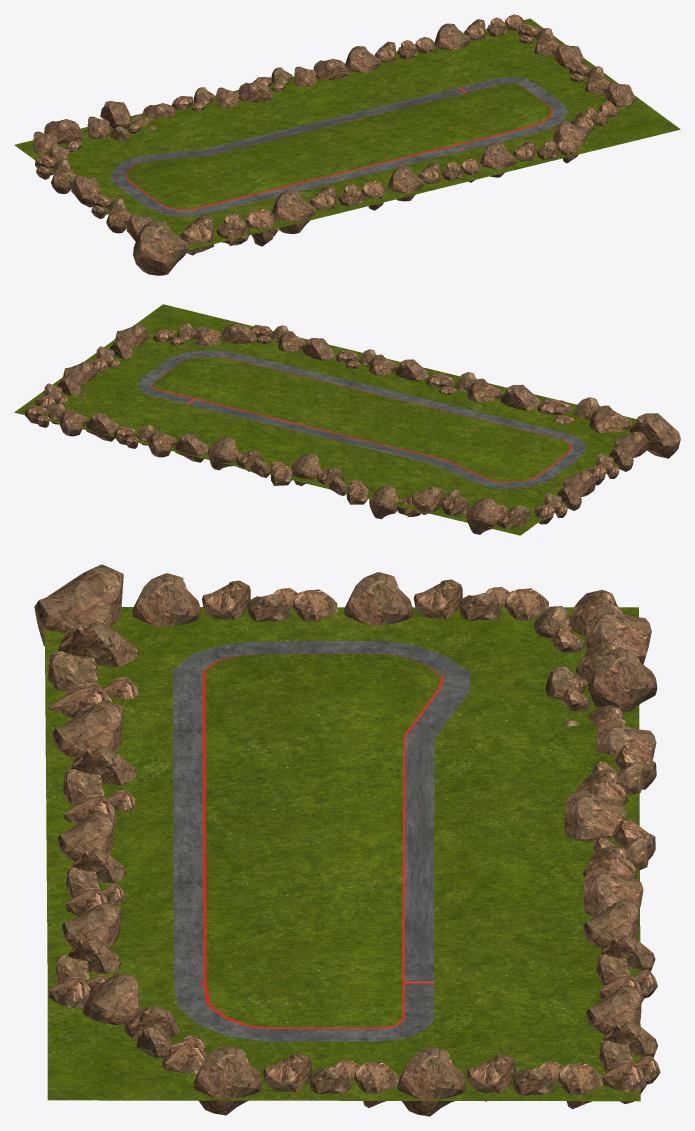
The model's file is mapa.glb.
The picture shows the model from 3 angles, top to bottom: view 1: azimuth 30°, elevation 25°; view 2: azimuth 150°, elevation 25°; view 3: azimuth 270°, elevation 25°; orthographic projection. The views are drawn at different scales.
Parts seen in each view (by area): view 1: Plane.001_16, polySurface1325_stone_0.010_5, polySurface1325_stone_0.009_4, polySurface1325_stone_0.013_13, polySurface1325_stone_0.008_3, polySurface1325_stone_0.014_14, polySurface1325_stone_0.004_9, polySurface1325_stone_0.001_6, polySurface1325_stone_0.002_7, polySurface1325_stone_0.015_2, polySurface1325_stone_0.006_1, polySurface1325_stone_0.007_0 (+5 smaller); view 2: Plane.001_16, polySurface1325_stone_0.010_5, polySurface1325_stone_0.009_4, polySurface1325_stone_0.001_6, polySurface1325_stone_0.002_7, polySurface1325_stone_0.015_2, polySurface1325_stone_0.004_9, polySurface1325_stone_0.014_14, polySurface1325_stone_0.012_12, polySurface1325_stone_0.016_15, polySurface1325_stone_0.006_1, polySurface1325_stone_0.008_3 (+5 smaller); view 3: Plane.001_16, polySurface1325_stone_0.010_5, polySurface1325_stone_0.005_10, polySurface1325_stone_0.011_11, polySurface1325_stone_0.009_4, polySurface1325_stone_0.016_15, polySurface1325_stone_0.014_14, polySurface1325_stone_0.012_12, polySurface1325_stone_0.007_0, polySurface1325_stone_0.002_7, polySurface1325_stone_0.004_9, polySurface1325_stone_0.013_13 (+5 smaller).
Part boxes in pixels (box(x1,y1,x2,y2)): Plane.001_16: box(14, 18, 680, 250); polySurface1325_stone_0.010_5: box(133, 209, 278, 275); polySurface1325_stone_0.009_4: box(272, 180, 386, 233); polySurface1325_stone_0.013_13: box(480, 139, 578, 177); polySurface1325_stone_0.008_3: box(388, 158, 481, 201); polySurface1325_stone_0.014_14: box(35, 154, 101, 207); polySurface1325_stone_0.004_9: box(171, 81, 273, 111); polySurface1325_stone_0.001_6: box(345, 37, 435, 72); polySurface1325_stone_0.002_7: box(435, 14, 524, 49); polySurface1325_stone_0.015_2: box(252, 58, 349, 91); polySurface1325_stone_0.006_1: box(33, 119, 83, 160); polySurface1325_stone_0.007_0: box(87, 101, 141, 140); Plane.001_16: box(14, 304, 649, 535); polySurface1325_stone_0.010_5: box(537, 397, 680, 458); polySurface1325_stone_0.009_4: box(426, 372, 540, 410); polySurface1325_stone_0.001_6: box(114, 424, 208, 462); polySurface1325_stone_0.002_7: box(25, 403, 118, 441); polySurface1325_stone_0.015_2: box(208, 437, 292, 485); polySurface1325_stone_0.004_9: box(291, 453, 369, 504); polySurface1325_stone_0.014_14: box(534, 470, 596, 524); polySurface1325_stone_0.012_12: box(153, 323, 255, 346); polySurface1325_stone_0.016_15: box(586, 431, 647, 485); polySurface1325_stone_0.006_1: box(466, 498, 530, 534); polySurface1325_stone_0.008_3: box(336, 349, 428, 381); Plane.001_16: box(44, 607, 640, 1101); polySurface1325_stone_0.010_5: box(34, 564, 139, 718); polySurface1325_stone_0.005_10: box(397, 1047, 602, 1116); polySurface1325_stone_0.011_11: box(193, 1045, 398, 1115); polySurface1325_stone_0.009_4: box(52, 699, 137, 825); polySurface1325_stone_0.016_15: box(132, 573, 337, 626); polySurface1325_stone_0.014_14: box(344, 572, 549, 625); polySurface1325_stone_0.012_12: box(83, 973, 206, 1073); polySurface1325_stone_0.007_0: box(545, 641, 657, 712); polySurface1325_stone_0.002_7: box(585, 984, 660, 1103); polySurface1325_stone_0.004_9: box(564, 745, 656, 841); polySurface1325_stone_0.013_13: box(49, 901, 121, 1008).
Bounding box in the file's own units: 163 × 13.97 × 84.38.
Materials: 5 (3 with a texture image).
